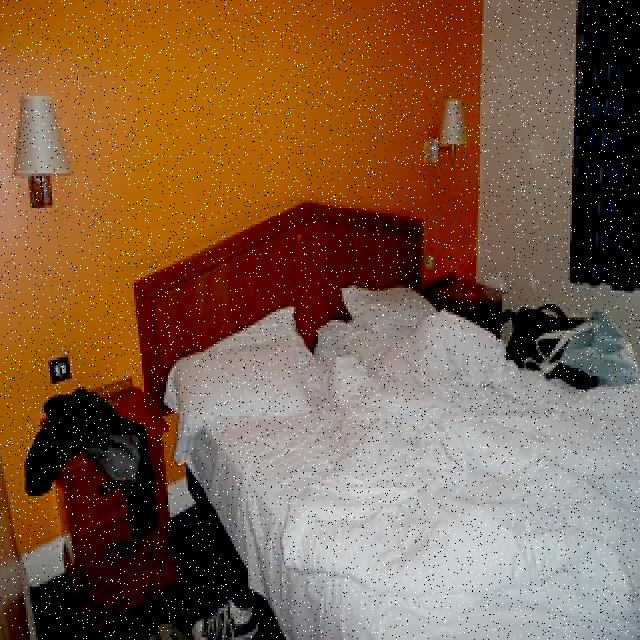bed: (171, 272, 639, 640)
